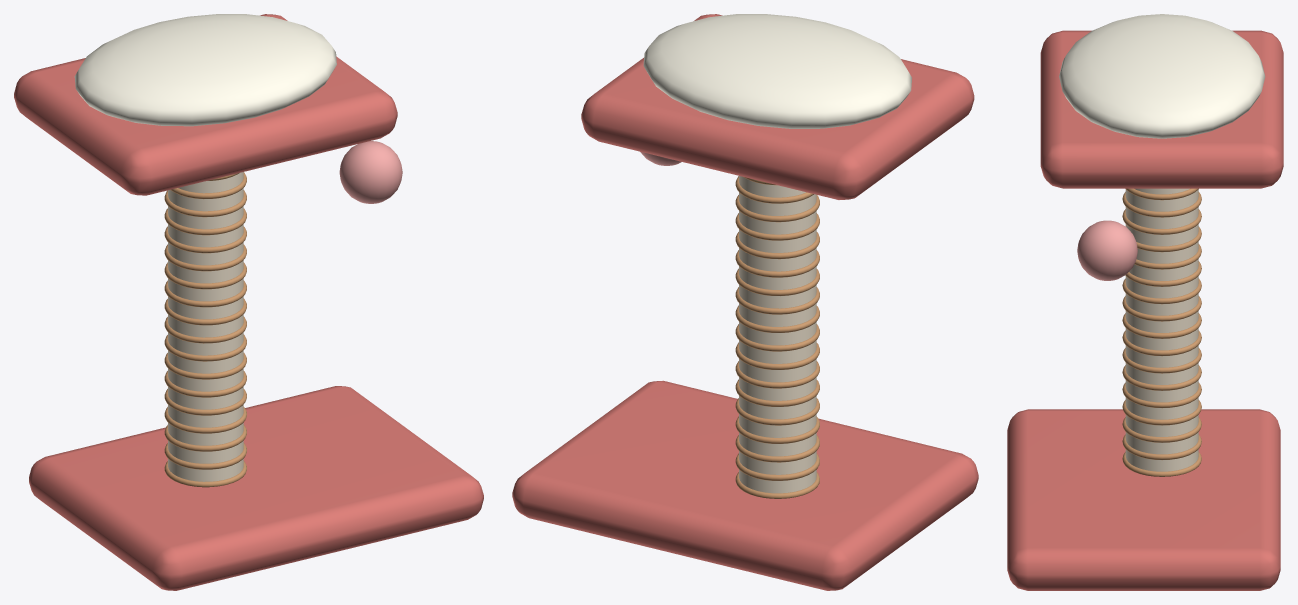
File: toy-scratchPostRed.glb
3 views of the same model, side by side, from view 1: azimuth 30°, elevation 25°; view 2: azimuth 150°, elevation 25°; view 3: azimuth 270°, elevation 25° (orthographic). The views are drawn at different scales.
Parts seen in each view (by area): view 1: Cat tree base, Upper perch, Cushion, Sisal post, Dangling toy, Rope ring.004, Rope ring.005, Rope ring.007, Rope ring.010, Rope ring.003, Rope ring.006, Rope ring.009 (+8 smaller); view 2: Cat tree base, Upper perch, Cushion, Sisal post, Rope ring.012, Rope ring.014, Rope ring.010, Rope ring.006, Rope ring.008, Rope ring.002, Rope ring.004, Rope ring.001 (+8 smaller); view 3: Cat tree base, Cushion, Upper perch, Sisal post, Dangling toy, Rope ring.003, Rope ring.006, Rope ring.009, Rope ring.015, Rope ring.002, Rope ring.005, Rope ring.014 (+10 smaller).
Part boxes in pixels (x1,y1,x2,y2): Cat tree base: (29, 386, 483, 590); Upper perch: (14, 14, 397, 195); Cushion: (74, 14, 336, 126); Sisal post: (168, 172, 243, 481); Dangling toy: (339, 141, 402, 203); Rope ring.004: (164, 389, 246, 415); Rope ring.005: (164, 371, 246, 397); Rope ring.007: (164, 334, 246, 361); Rope ring.010: (164, 280, 246, 307); Rope ring.003: (164, 407, 246, 433); Rope ring.006: (164, 353, 246, 379); Rope ring.009: (164, 298, 246, 325); Cat tree base: (512, 380, 978, 590); Upper perch: (581, 14, 974, 199); Cushion: (643, 14, 911, 128); Sisal post: (739, 176, 816, 493); Rope ring.012: (735, 250, 819, 277); Rope ring.014: (735, 213, 819, 240); Rope ring.010: (735, 287, 819, 314); Rope ring.006: (735, 361, 819, 388); Rope ring.008: (735, 324, 819, 351); Rope ring.002: (735, 435, 819, 462); Rope ring.004: (735, 398, 819, 425); Rope ring.001: (735, 453, 819, 480); Cat tree base: (1007, 409, 1280, 590); Cushion: (1059, 14, 1265, 138); Upper perch: (1040, 30, 1283, 188); Sisal post: (1125, 188, 1198, 471); Dangling toy: (1077, 220, 1137, 280); Rope ring.003: (1122, 400, 1201, 425); Rope ring.006: (1122, 348, 1201, 373); Rope ring.009: (1122, 296, 1201, 321); Rope ring.015: (1122, 192, 1201, 217); Rope ring.002: (1122, 417, 1201, 442); Rope ring.005: (1122, 365, 1201, 390); Rope ring.014: (1122, 209, 1201, 234).
Bounding box in the file's own units: 1.25 × 1.64 × 0.91.
